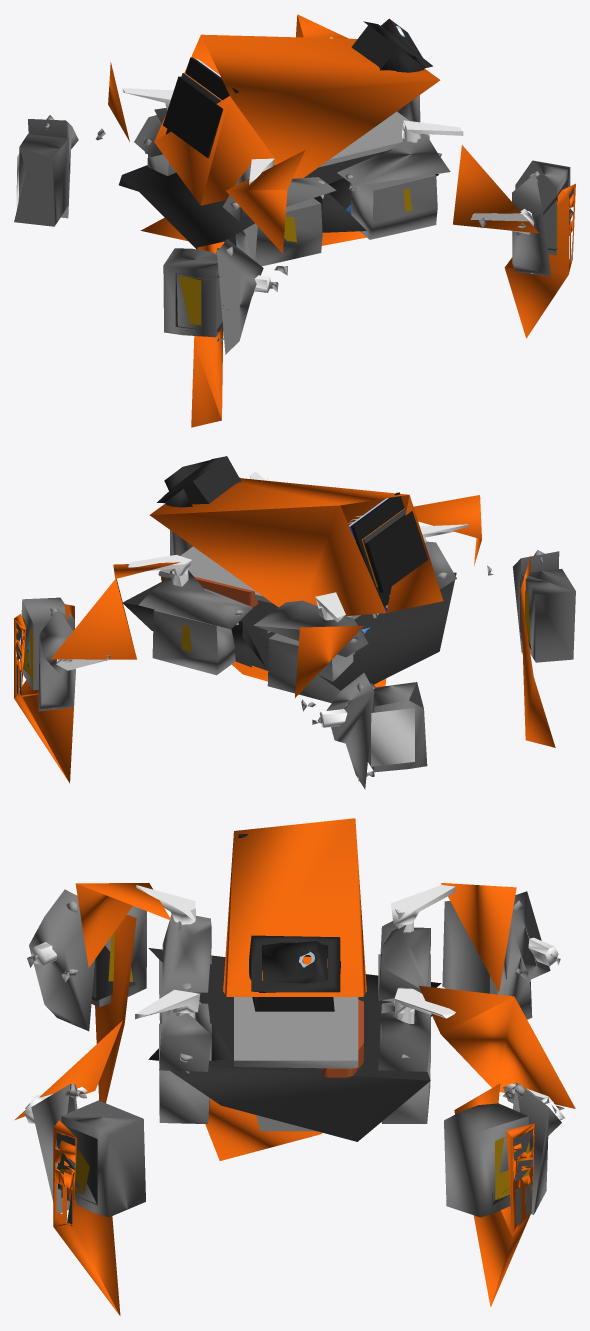
Rendered from model-lite.lod0.glb.
The picture shows the model from 3 angles, top to bottom: view 1: azimuth 30°, elevation 25°; view 2: azimuth 150°, elevation 25°; view 3: azimuth 270°, elevation 25°; orthographic projection. The views are drawn at different scales.
Parts seen in each view (by area): view 1: femurjoint, Body1, Internal-Frame, Body1:12, Body13, Body1:24, Body1:30, Body2; view 2: femurjoint, Body1, Internal-Frame, Body13, Body1:12, Body1:24, Body1:30, Body2, Body77; view 3: femurjoint, Body1, Internal-Frame, Body1:30, Body13, Body1:24, Body2, foot, Body77.
Part boxes in pixels (x1,y1,x2,y2): femurjoint: [108, 14, 575, 427]; Body1: [14, 95, 570, 354]; Internal-Frame: [119, 151, 438, 249]; Body1:12: [163, 57, 238, 157]; Body13: [16, 37, 534, 292]; Body1:24: [351, 18, 432, 72]; Body1:30: [44, 111, 539, 341]; Body2: [175, 73, 567, 331]; femurjoint: [14, 478, 555, 783]; Body1: [20, 477, 575, 789]; Internal-Frame: [123, 572, 456, 690]; Body13: [56, 472, 469, 766]; Body1:12: [351, 492, 427, 606]; Body1:24: [157, 456, 241, 507]; Body1:30: [50, 546, 544, 781]; Body2: [23, 508, 531, 681]; Body77: [161, 571, 257, 606]; femurjoint: [14, 818, 575, 1315]; Body1: [29, 889, 561, 1217]; Internal-Frame: [148, 948, 441, 1141]; Body1:30: [25, 900, 564, 1201]; Body13: [24, 885, 564, 1123]; Body1:24: [249, 935, 340, 1011]; Body2: [58, 932, 529, 1205]; foot: [56, 1130, 532, 1225]; Body77: [322, 999, 363, 1077].
Bounding box in the file's own units: 13.47 × 9.2 × 13.03.
